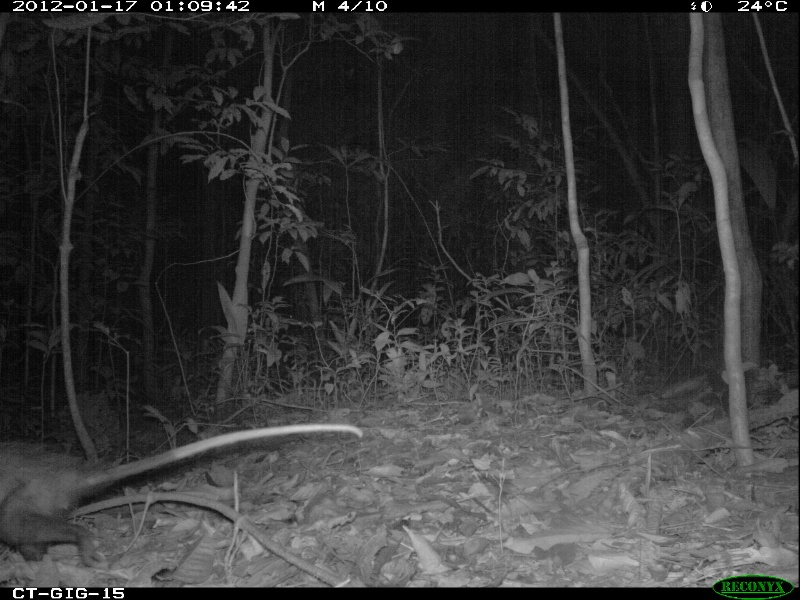opossum: (1, 415, 365, 569)
